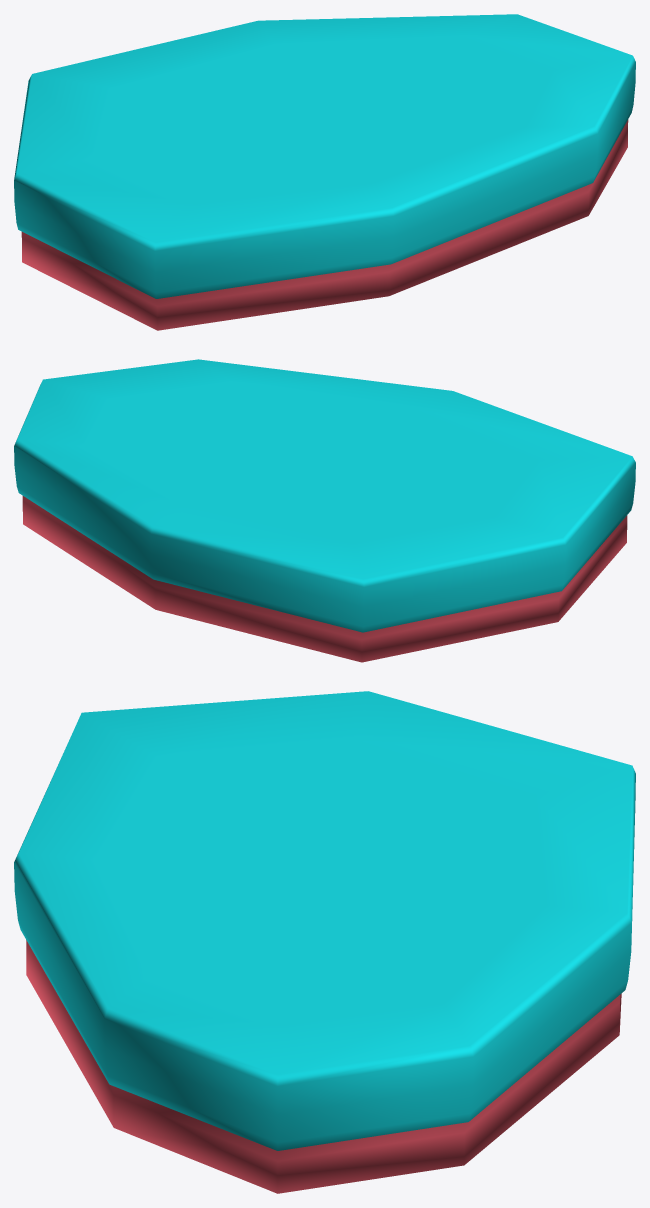
The model's file is Fish chunk.glb.
3 views of the same model, one above another, from view 1: azimuth 30°, elevation 25°; view 2: azimuth 150°, elevation 25°; view 3: azimuth 270°, elevation 25° (orthographic). The views are drawn at different scales.
Visible parts, largest first — view 1: pCube1; view 2: pCube1; view 3: pCube1.
Boxes of the visible parts, bbox=[...] form: pCube1: bbox=[14, 14, 635, 330]; pCube1: bbox=[14, 359, 635, 662]; pCube1: bbox=[14, 691, 635, 1193].
Bounding box in the file's own units: 3.46 × 0.6889 × 2.35.
